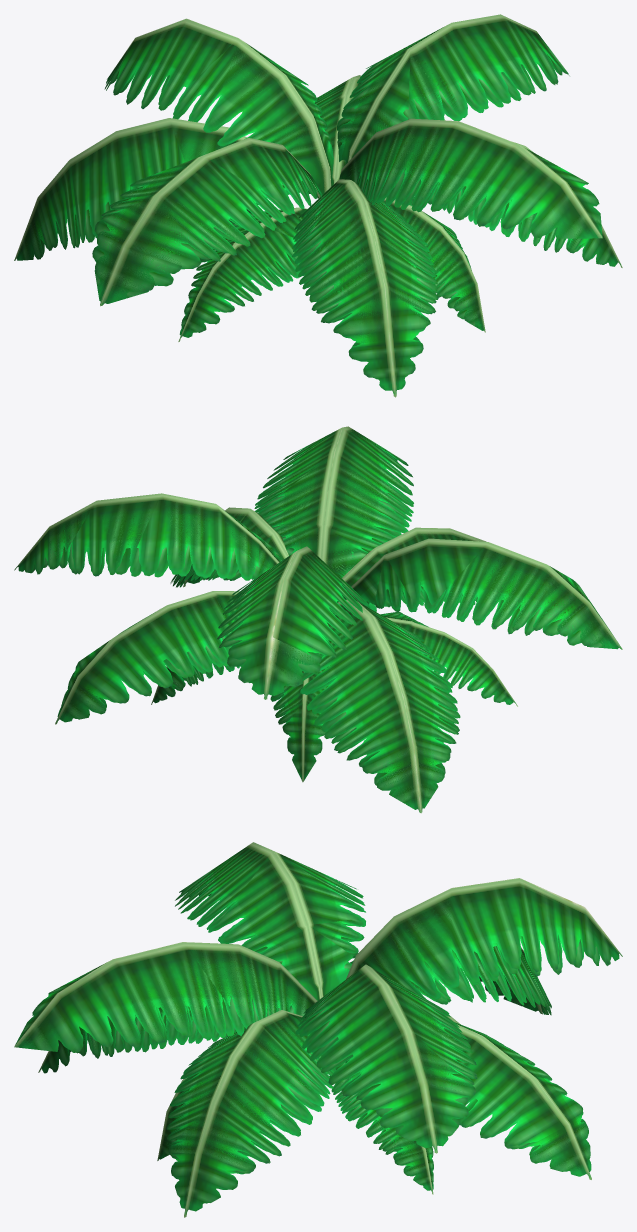
Rendered from PalmLeaves.obj.
3 views of the same model, one above another, from view 1: azimuth 30°, elevation 25°; view 2: azimuth 150°, elevation 25°; view 3: azimuth 270°, elevation 25° (orthographic). The views are drawn at different scales.
Bounding box in the file's own units: 78.08 × 31.07 × 70.89.
1 material, 1 textured.
